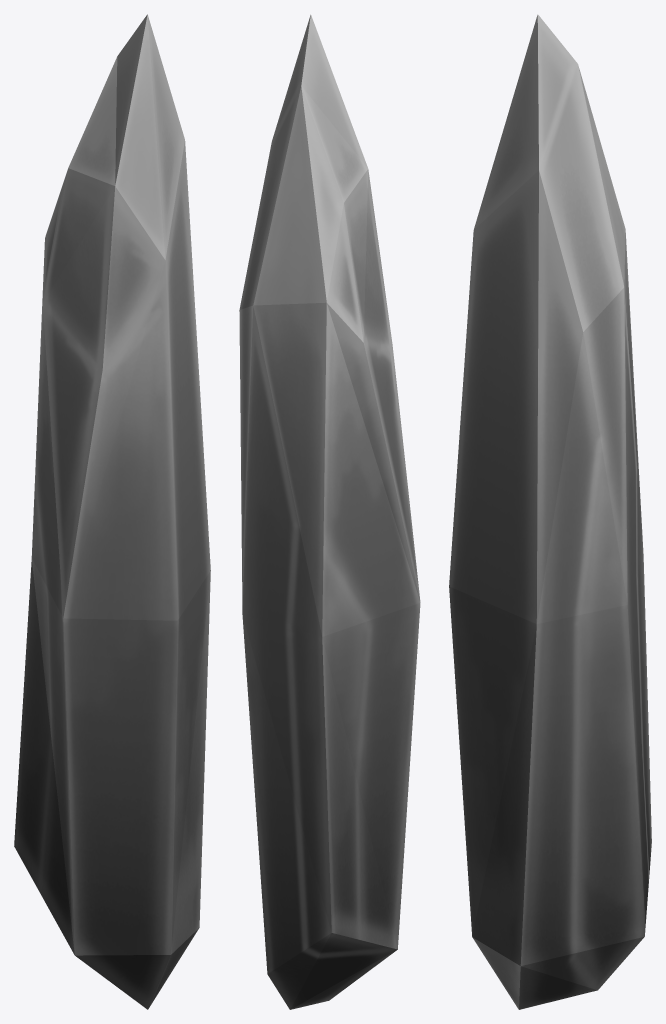
Rendered from cave crystal A.FBX.
3 views of the same model, side by side, from view 1: azimuth 30°, elevation 25°; view 2: azimuth 150°, elevation 25°; view 3: azimuth 270°, elevation 25° (orthographic).
Parts seen in each view (by area): view 1: crystal A; view 2: crystal A; view 3: crystal A.
Part boxes in pixels (left/top/right/bottom): crystal A: left=14, top=14, right=210, bottom=1009; crystal A: left=239, top=14, right=420, bottom=1009; crystal A: left=449, top=14, right=651, bottom=1009.
Bounding box in the file's own units: 1.02 × 6.04 × 1.11.
